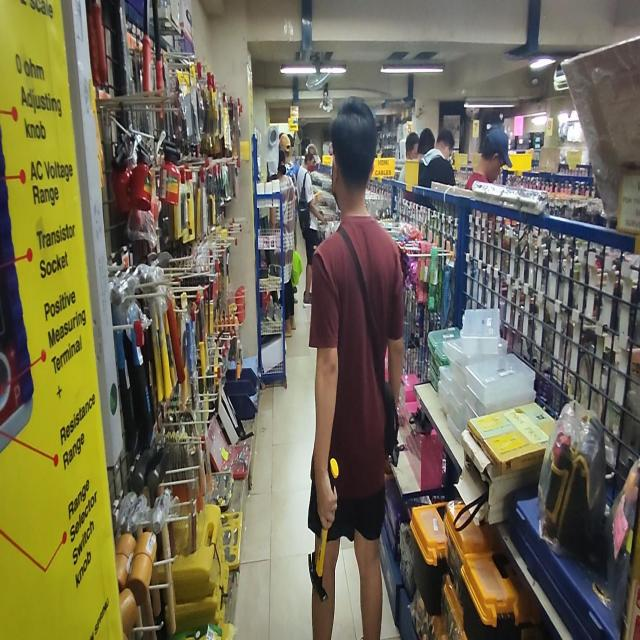hammer: (308, 458, 339, 602)
